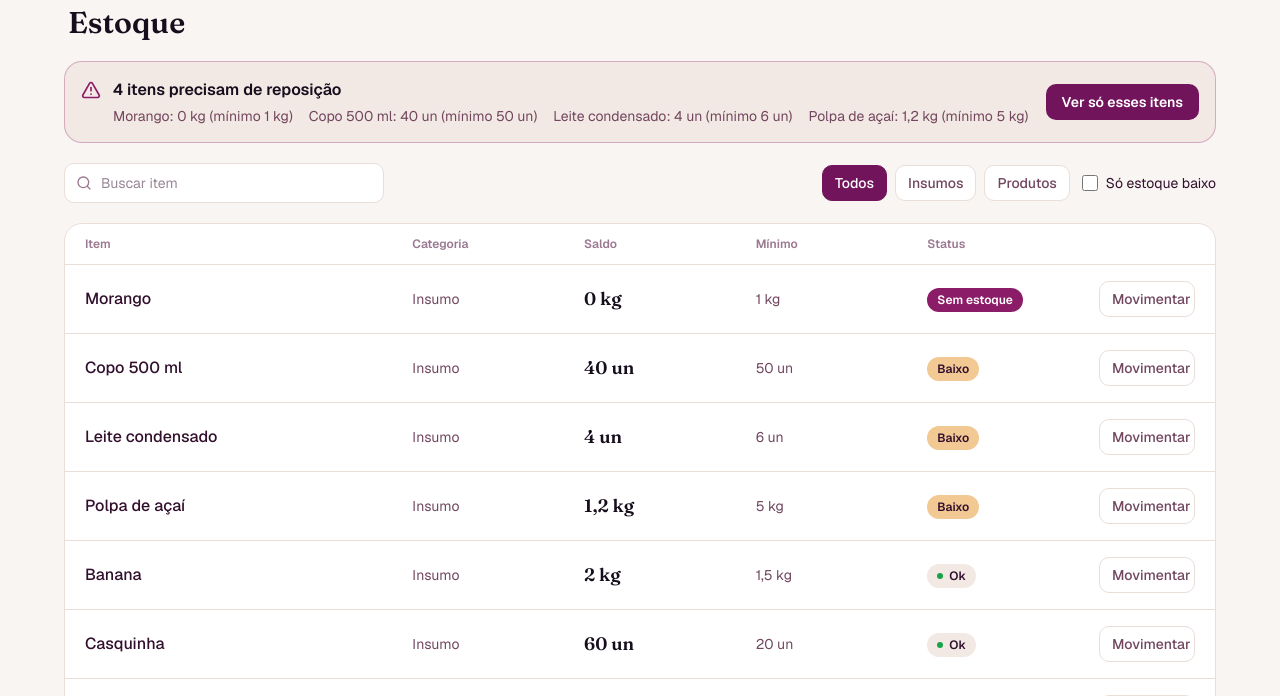
InventoryExperience › registers an entrada, updates the balance and clears the alert for that item
Click the button with aria-label "Movimentar Polpa de açaí" at (1147, 506), box [1099, 488, 1195, 524]
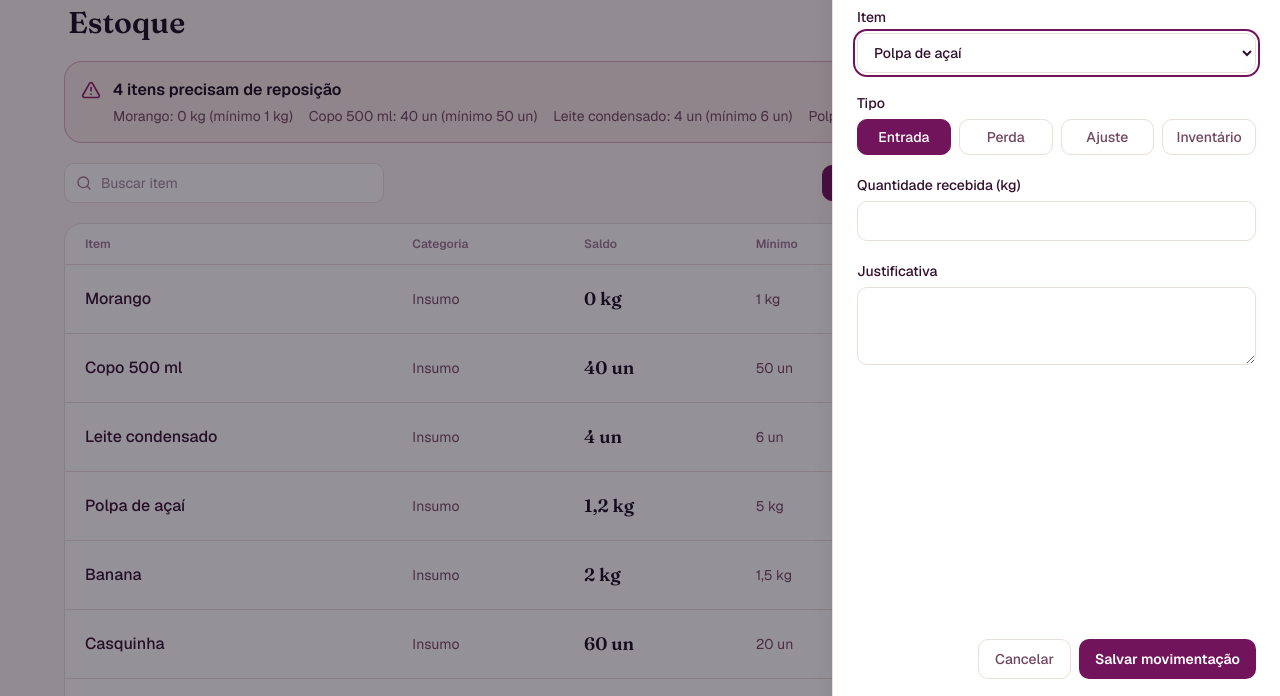
Type "10" into the field labelled "Quantidade recebida (kg)" at (1056, 221), box [857, 201, 1256, 241]
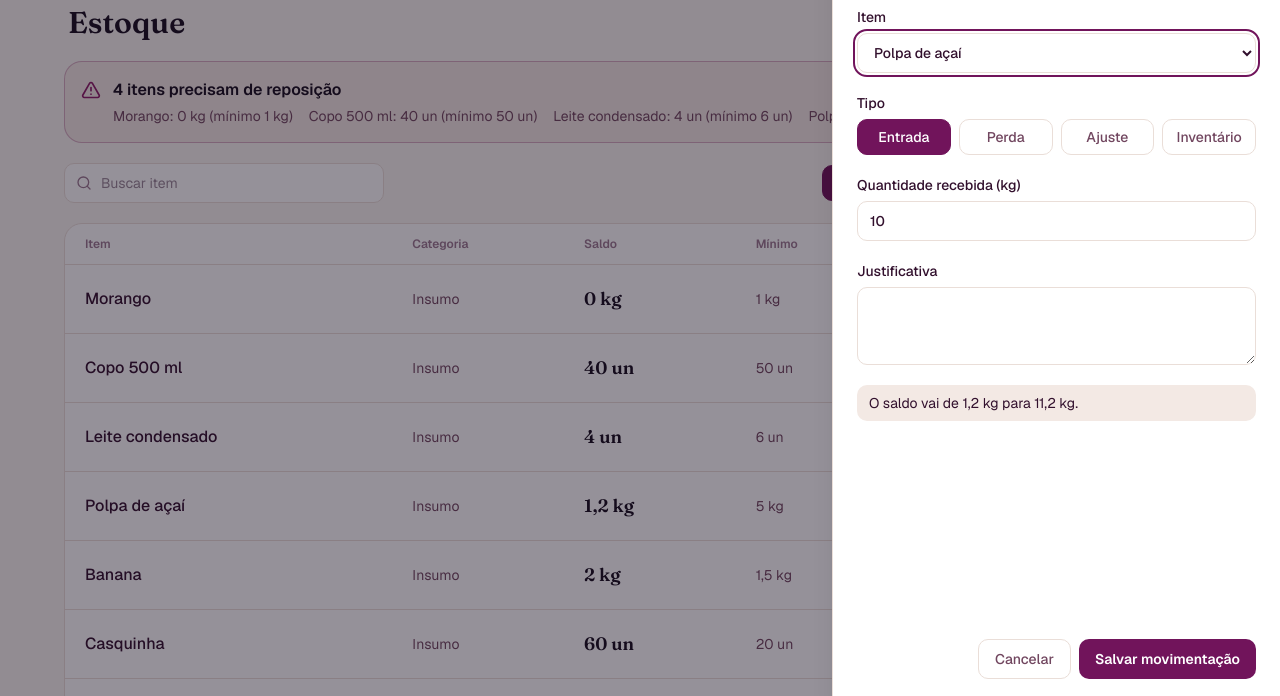
Type "Recebimento do fornecedor" into the text box labelled "Justificativa" at (1056, 326), box [857, 287, 1256, 365]
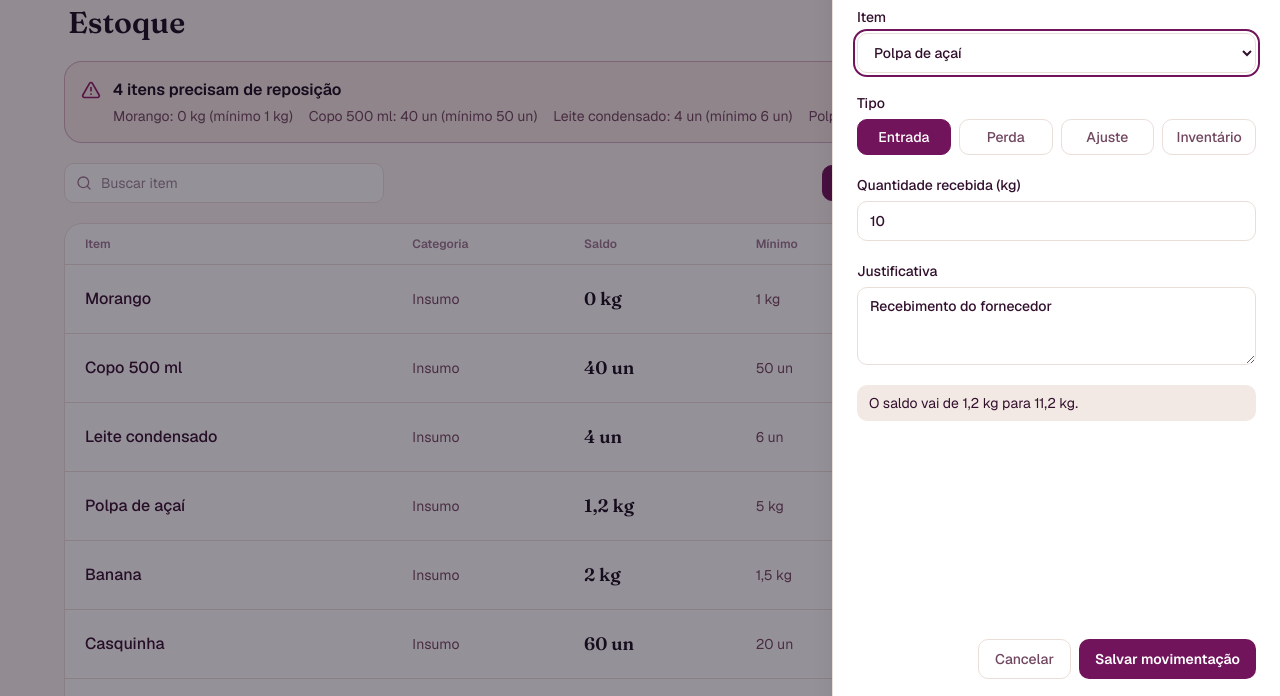
Click the button "Salvar movimentação" at (1167, 659), box [1079, 639, 1256, 679]
(page scrolled)
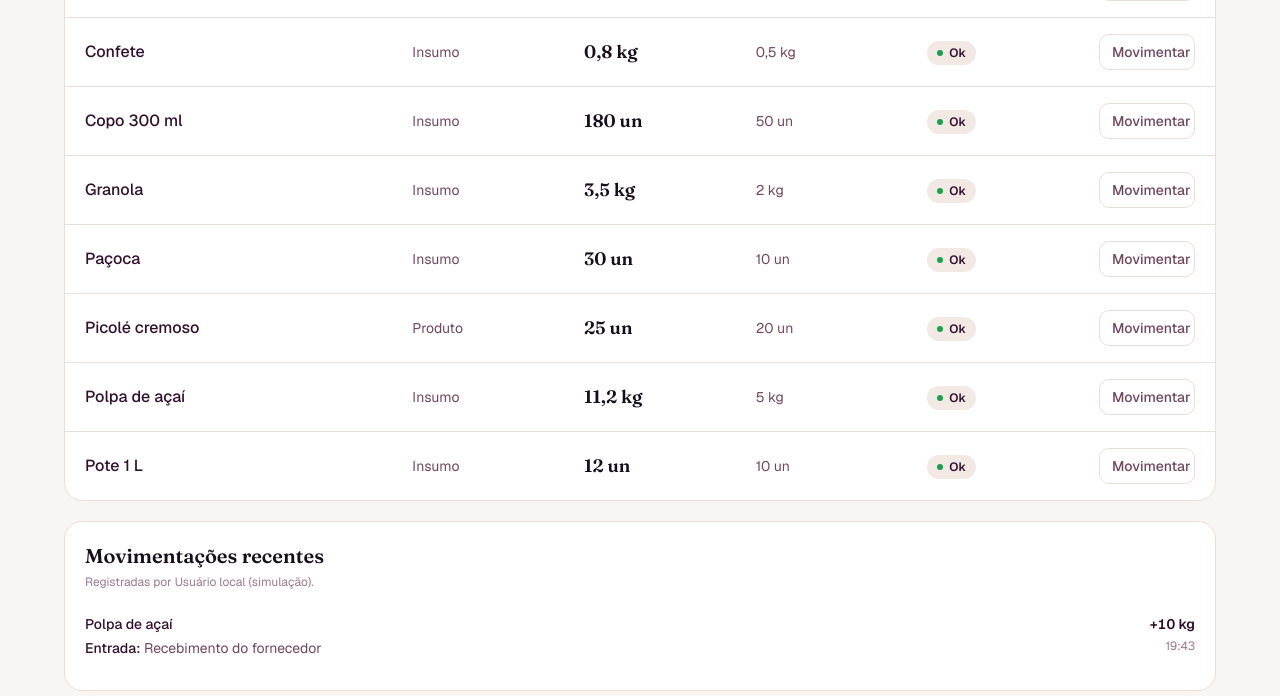
Check: the text "11,2 kg" is shown, box [584, 385, 642, 408]
Check: the text "Recebimento do fornecedor" is shown, box [144, 639, 322, 657]
Check: the text "+10 kg" is shown, box [1150, 614, 1195, 634]
